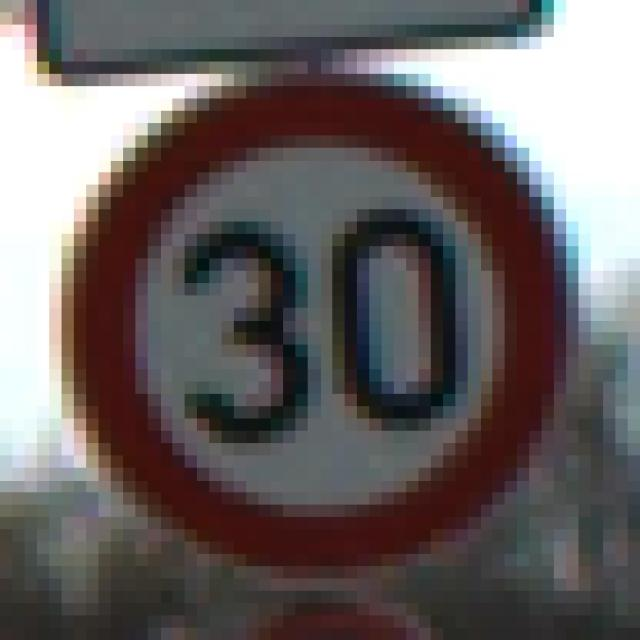Speed Limit 30 KMPh: (37, 49, 603, 603)
